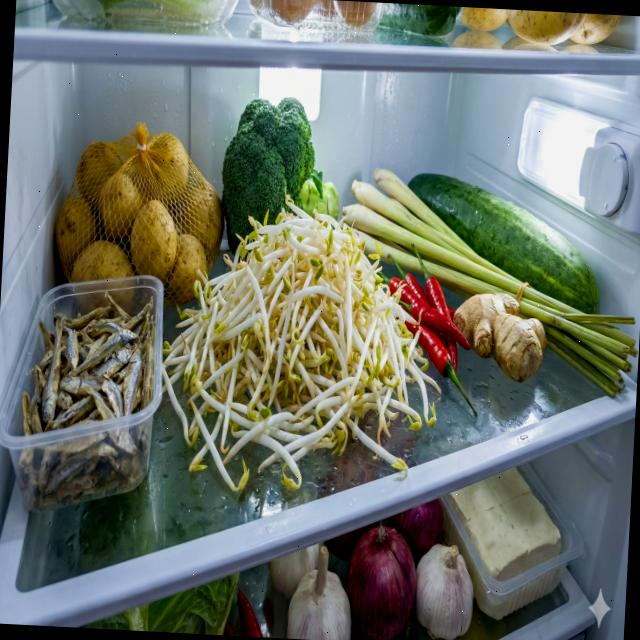anchovies: (17, 285, 160, 515)
bean_sprouts: (157, 178, 453, 504)
brocolli: (218, 94, 346, 264)
chili: (370, 236, 488, 418)
cucumber: (402, 170, 605, 314)
garlic: (263, 540, 356, 640), (413, 540, 477, 640)
ginger: (450, 288, 550, 383)
lemongrass: (333, 165, 640, 400)
onion: (343, 523, 419, 640)
potato: (52, 128, 230, 318)
tofu: (442, 464, 566, 624)
